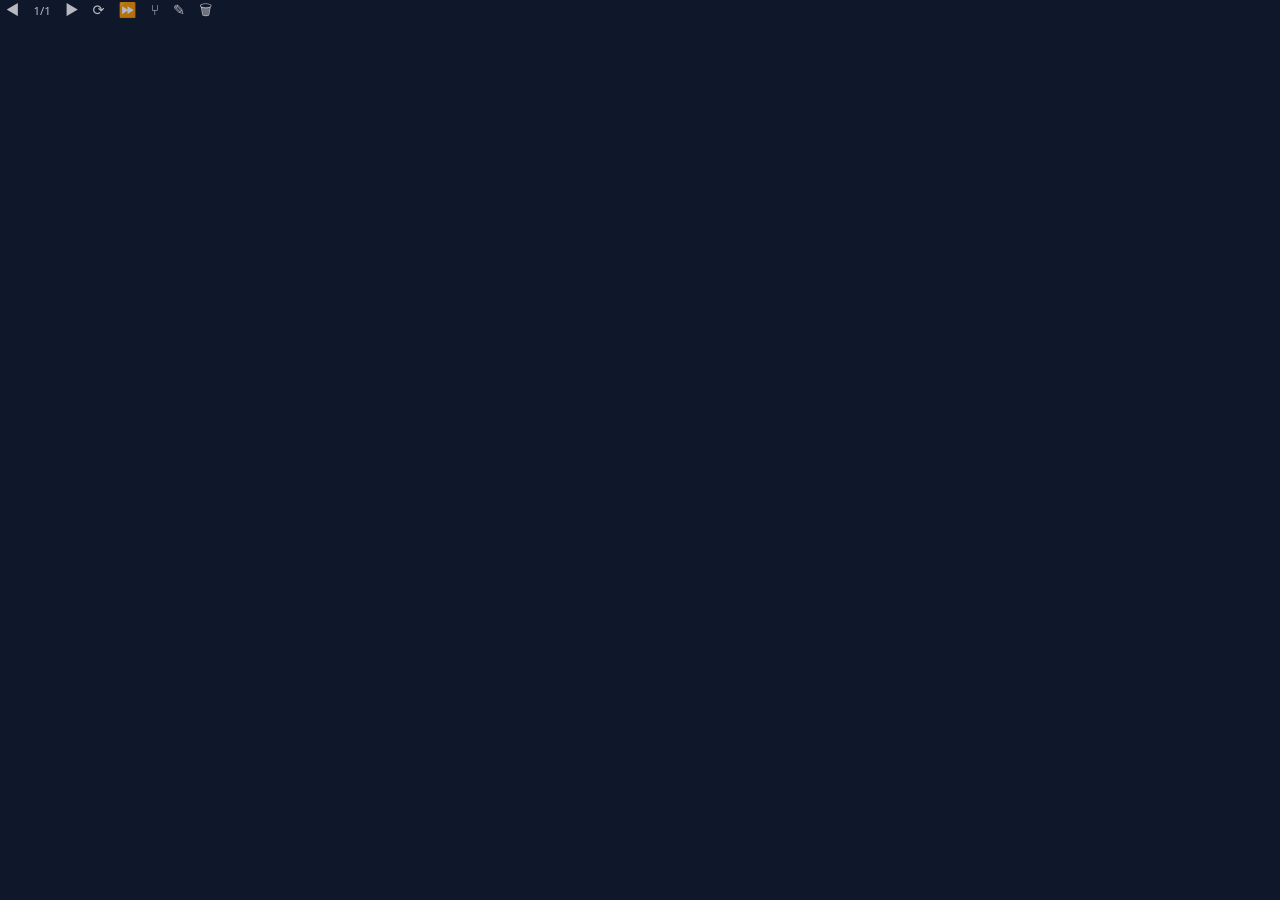
Test case: MessageActions regen critique › cancel does not regenerate
Click the button titled "Regenerate".
click(98, 10)  # box [86,1,110,19]
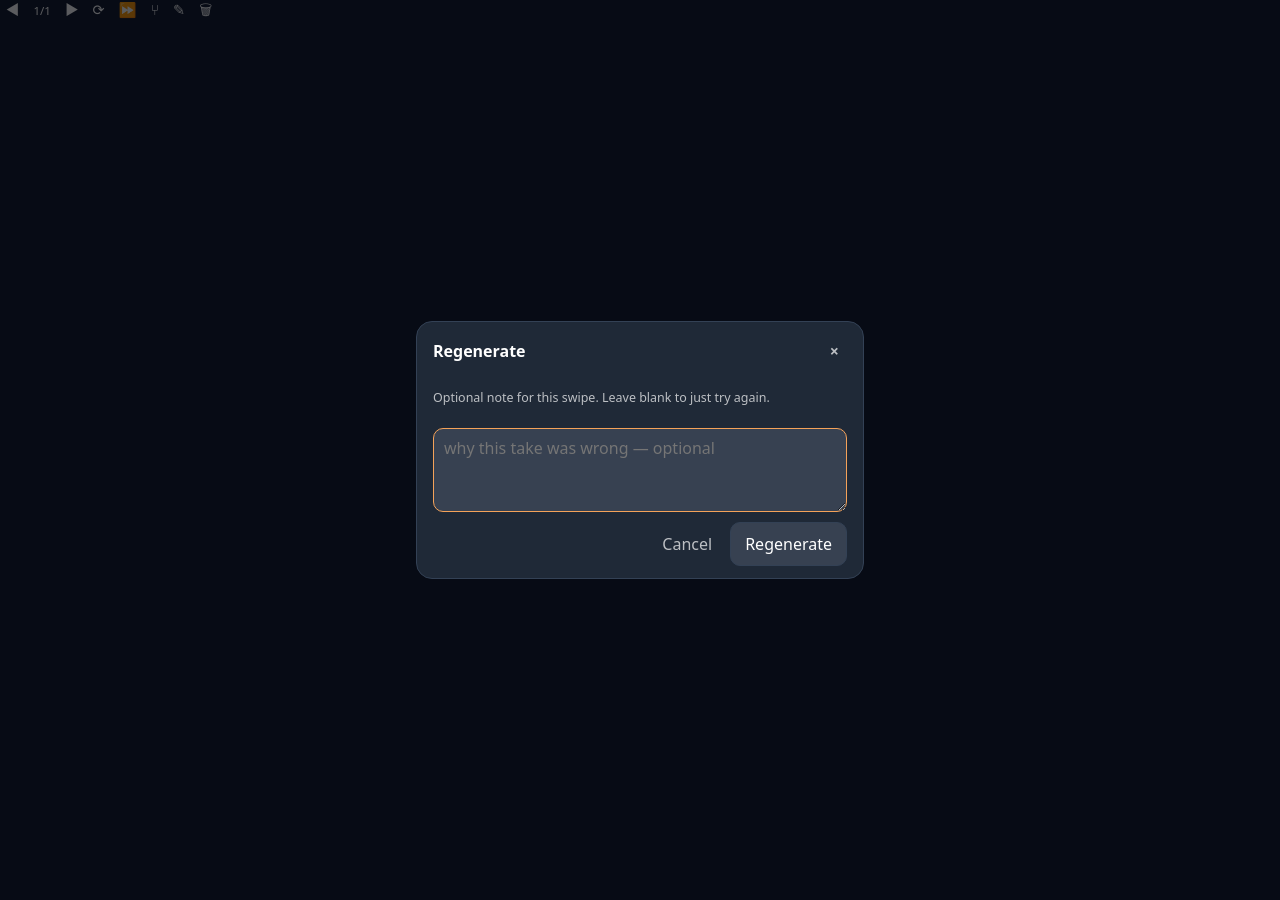
Click the button "Cancel".
click(687, 544)  # box [654,529,720,559]
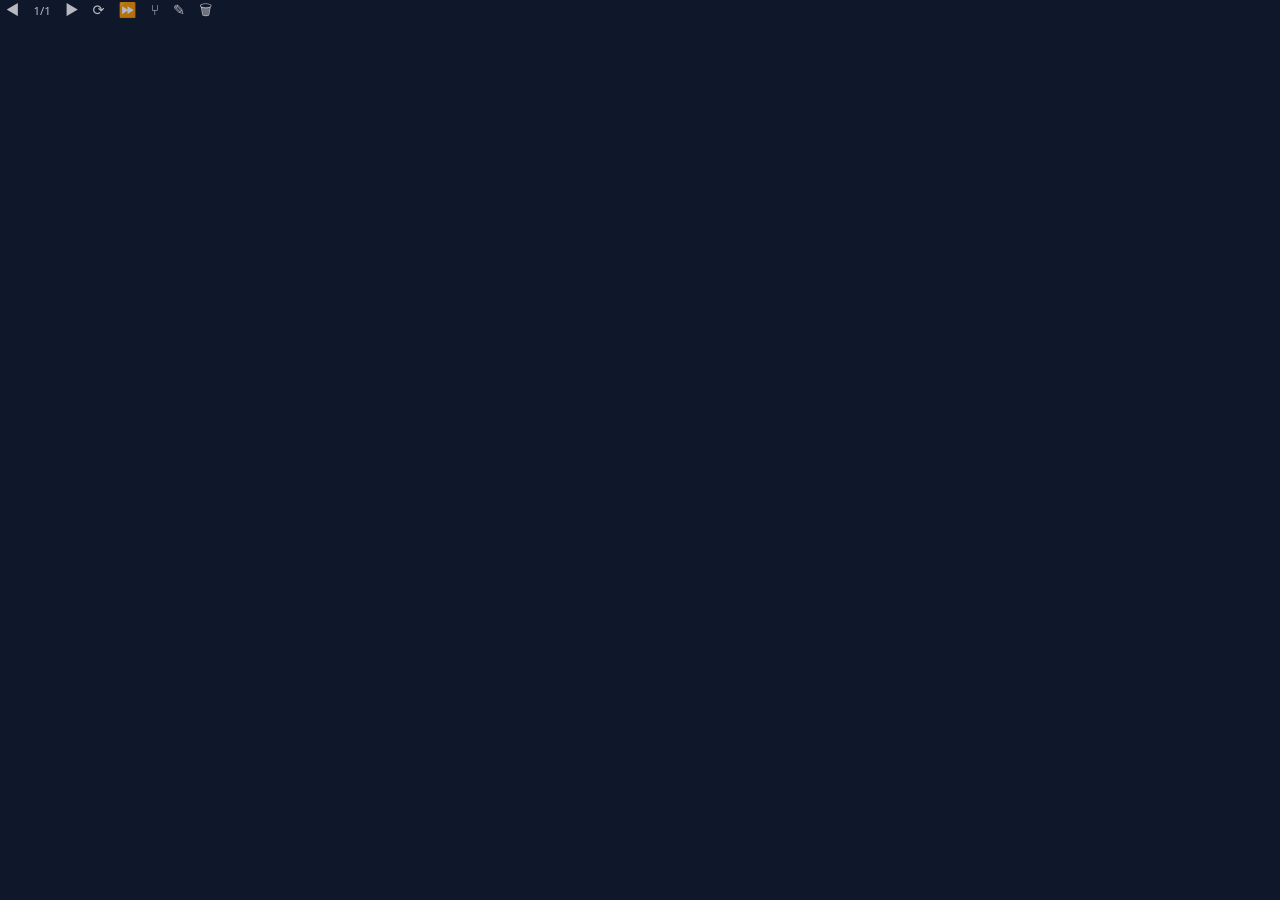
Now the text box with test id "regen-critique-field" is gone
